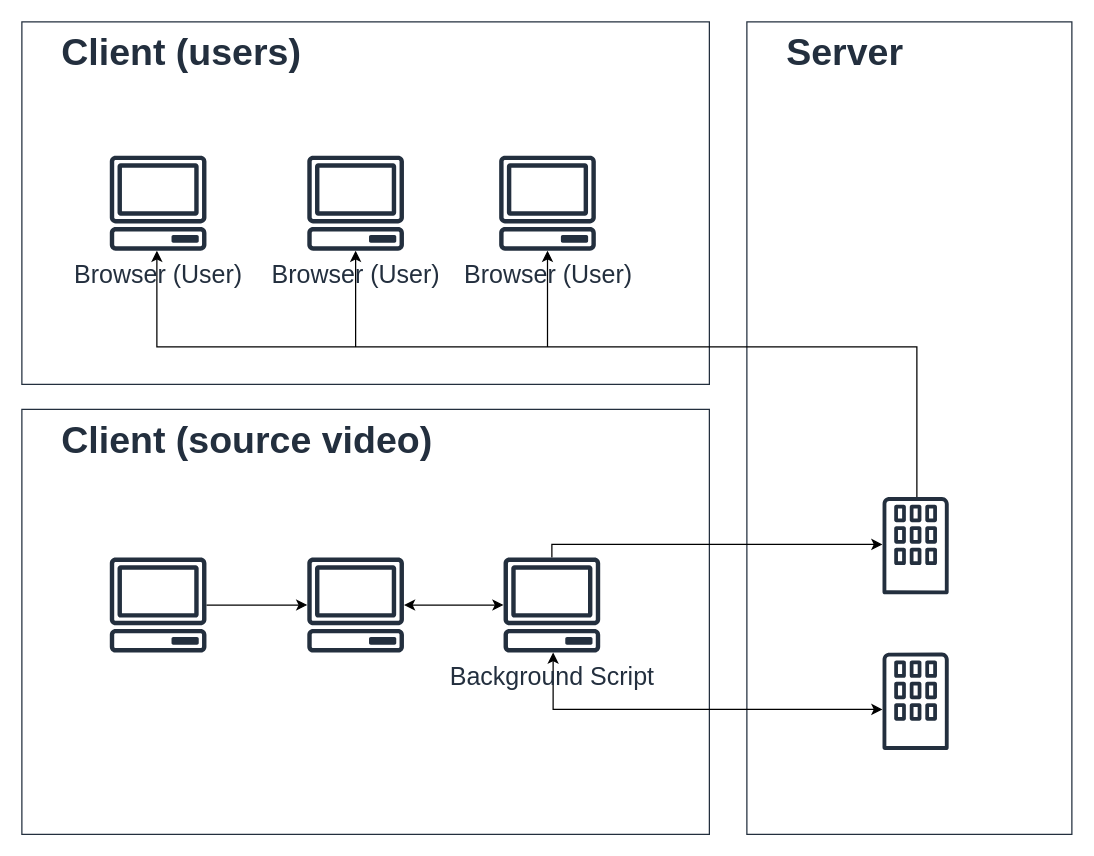
This 1094x856 diagram has some shape labels left out. Here are the shapes that lost their labels. From the top down, the centre of each, then its label:
point (915, 545): Express Server (GCP)
point (157, 604): Browser (Video)
point (355, 604): Content Script
point (915, 700): Youtube Caption Endpoint
